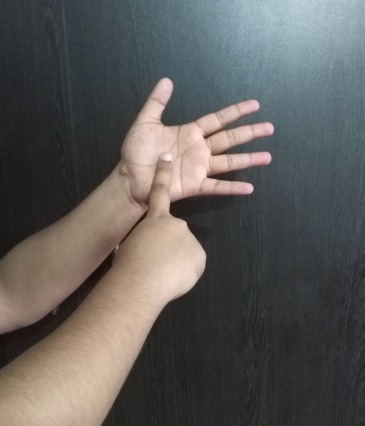oo: (116, 77, 276, 296)
